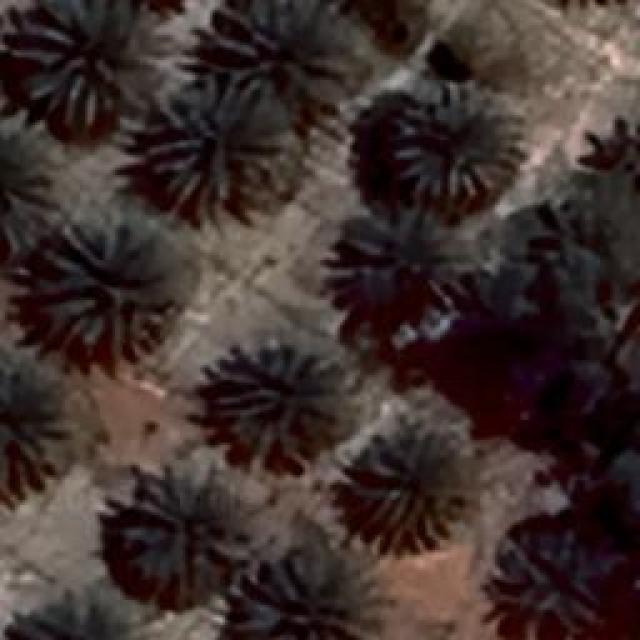PalmTree: (57, 5, 591, 108), (142, 80, 288, 208), (35, 222, 170, 360), (210, 344, 348, 468), (10, 0, 130, 125), (345, 430, 470, 550), (390, 85, 520, 200), (123, 465, 250, 580), (236, 0, 339, 98), (364, 210, 454, 322), (254, 555, 366, 640), (5, 369, 70, 499), (500, 535, 595, 623), (11, 595, 124, 640)
